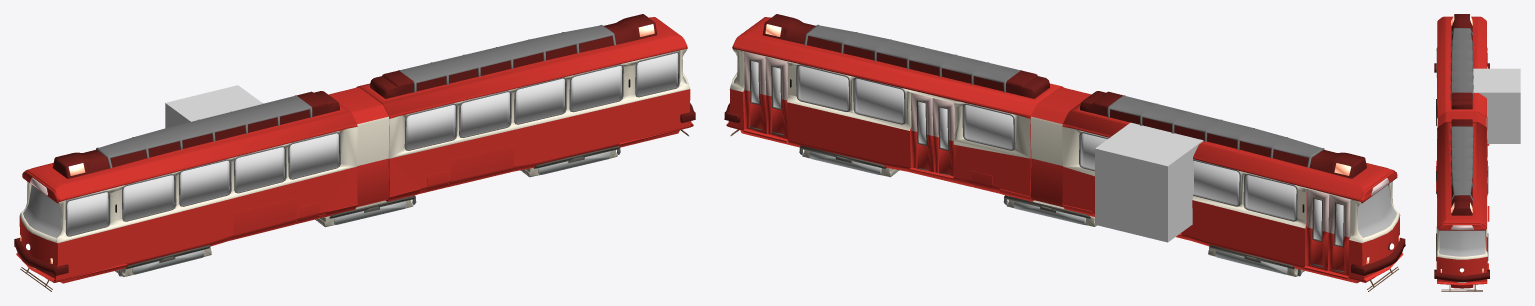
The model's file is TramAsset.fbx.
The picture shows the model from 3 angles, left to right: view 1: azimuth 30°, elevation 25°; view 2: azimuth 150°, elevation 25°; view 3: azimuth 270°, elevation 25°; orthographic projection. The views are drawn at different scales.
Parts seen in each view (by area): view 1: Vert_2, Vert.064_76, Vert.060_69, Vert.124_143, Vert.040_45, Vert.061_70, Vert.127_146, Vert.100_119, Vert.063_72, Vert.125_144, Cube, Vert.008_10 (+20 smaller); view 2: Cube, Vert.064_76, Vert_2, Vert.124_143, Vert.060_69, Vert.040_45, Vert.100_119, Vert.127_146, Vert.125_144, Vert.063_72, Vert.061_70, Vert.027_27 (+28 smaller); view 3: Vert.124_143, Cube, Vert.060_69, Vert.100_119, Vert.040_45, Vert.064_76, Vert.126_145, Vert.063_72, Vert.127_146, Vert.125_144, Vert.089_105, Vert.057_66 (+5 smaller).
Boxes of the visible parts, x1,y1,x2,y2 form: Vert_2: (16, 167, 357, 283); Vert.064_76: (385, 89, 693, 201); Vert.060_69: (22, 103, 357, 203); Vert.124_143: (356, 17, 687, 118); Vert.040_45: (96, 95, 312, 168); Vert.061_70: (19, 127, 357, 243); Vert.127_146: (370, 14, 657, 98); Vert.100_119: (398, 25, 616, 92); Vert.063_72: (52, 91, 339, 178); Vert.125_144: (388, 49, 690, 158); Cube: (165, 85, 262, 127); Vert.008_10: (123, 175, 174, 219); Cube: (1095, 122, 1203, 242); Vert.064_76: (726, 52, 1033, 201); Vert_2: (1062, 166, 1403, 283); Vert.124_143: (732, 17, 1063, 118); Vert.060_69: (1062, 103, 1397, 203); Vert.040_45: (1107, 95, 1324, 167); Vert.100_119: (804, 24, 1021, 92); Vert.127_146: (763, 14, 1049, 98); Vert.125_144: (730, 49, 1030, 158); Vert.063_72: (1080, 91, 1366, 178); Vert.061_70: (1062, 127, 1399, 242); Vert.027_27: (1245, 175, 1296, 219); Vert.124_143: (1437, 122, 1487, 230); Cube: (1473, 68, 1520, 143); Vert.060_69: (1437, 16, 1487, 118); Vert.100_119: (1450, 126, 1473, 201); Vert.040_45: (1450, 28, 1473, 99); Vert.064_76: (1436, 175, 1489, 288); Vert.126_145: (1439, 230, 1484, 256); Vert.063_72: (1451, 14, 1472, 109); Vert.127_146: (1451, 119, 1472, 215); Vert.125_144: (1436, 130, 1487, 259); Vert.089_105: (1434, 269, 1489, 281); Vert.057_66: (1438, 112, 1486, 122).
Bounding box in the file's own units: 1807 × 308 × 305.
